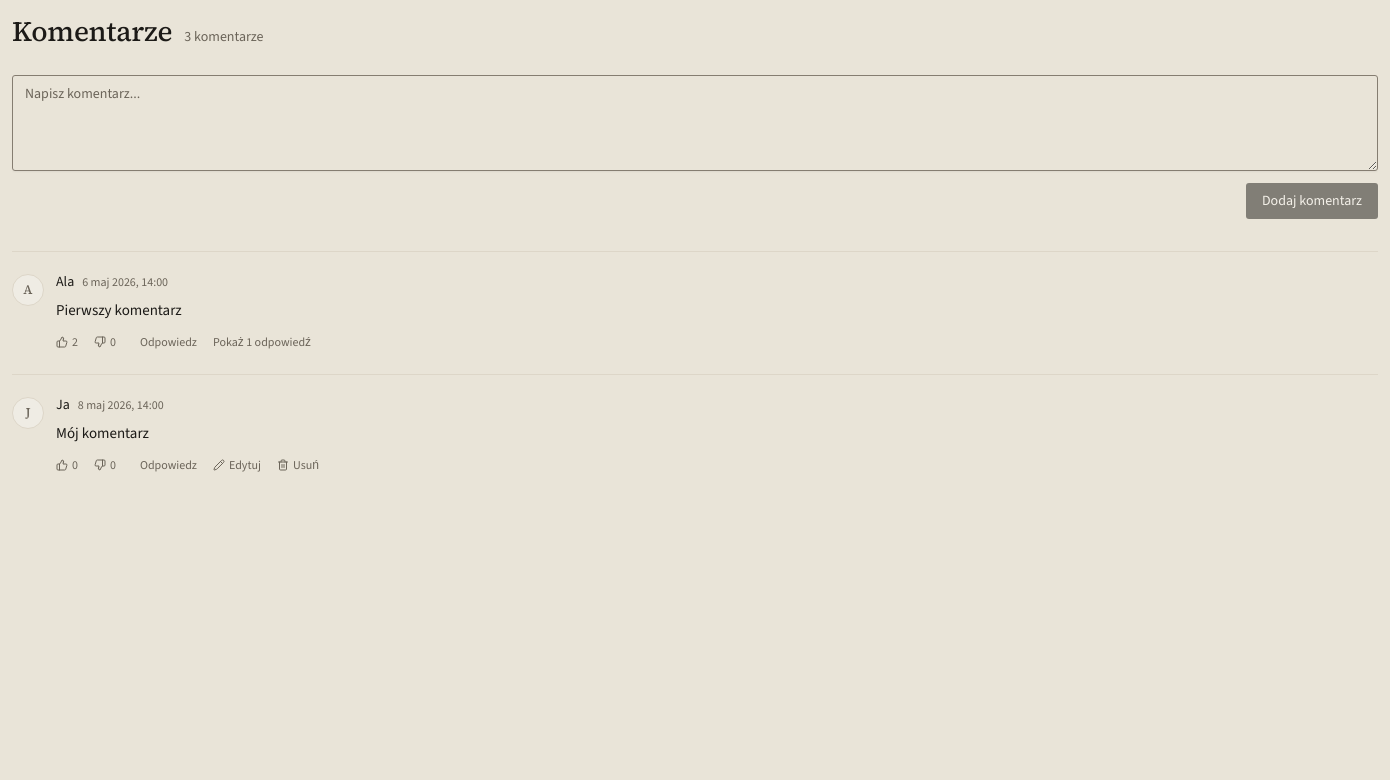
Test: ArticleComments › own comments › edits a comment in place
Click the button "Edytuj". click: (237, 465)
box: [207, 453, 267, 477]
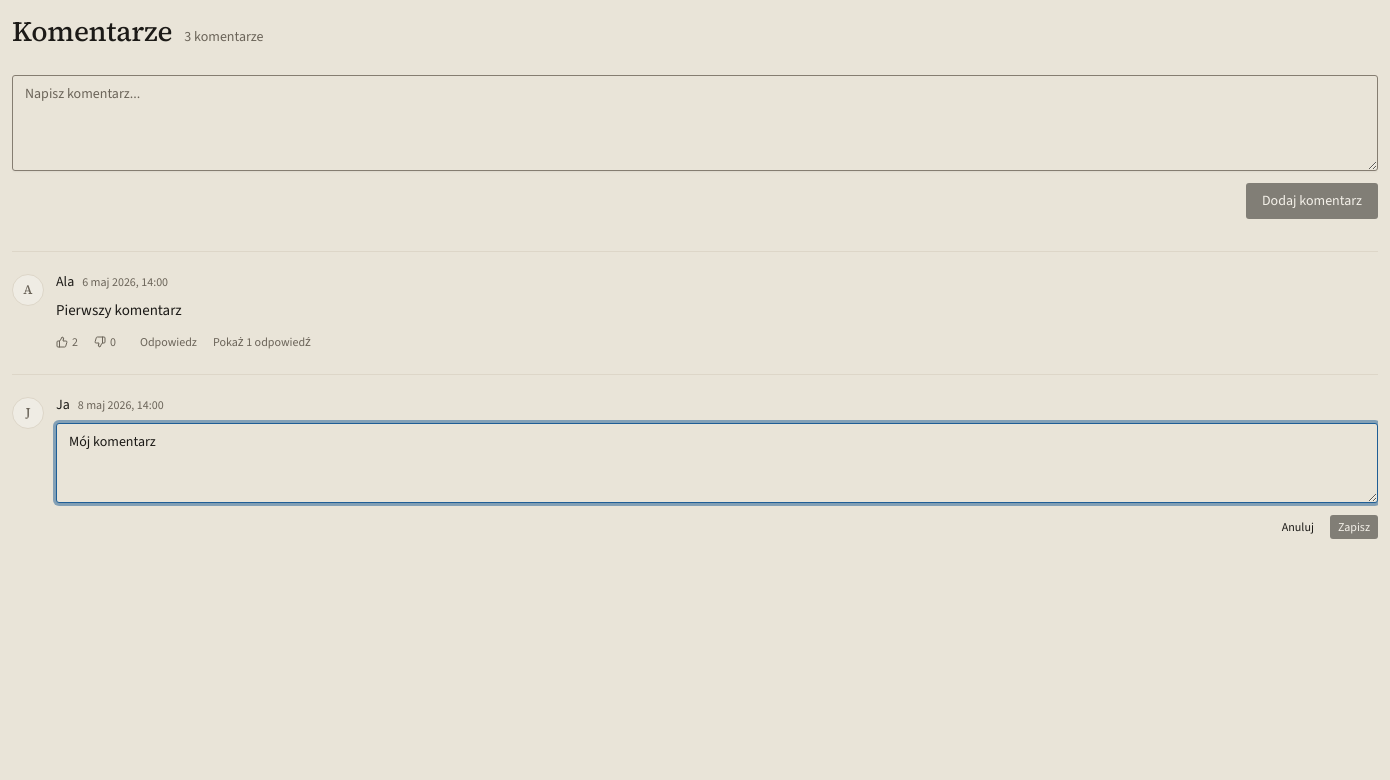
Result: the text box named "Edytuj komentarz" holds "Mój komentarz"
Result: the button "Zapisz" is disabled at [1330, 515, 1378, 539]
Replace the text in the text box named "Edytuj komentarz" with "Poprawiony komentarz". click: (717, 463)
box: [56, 423, 1378, 503]
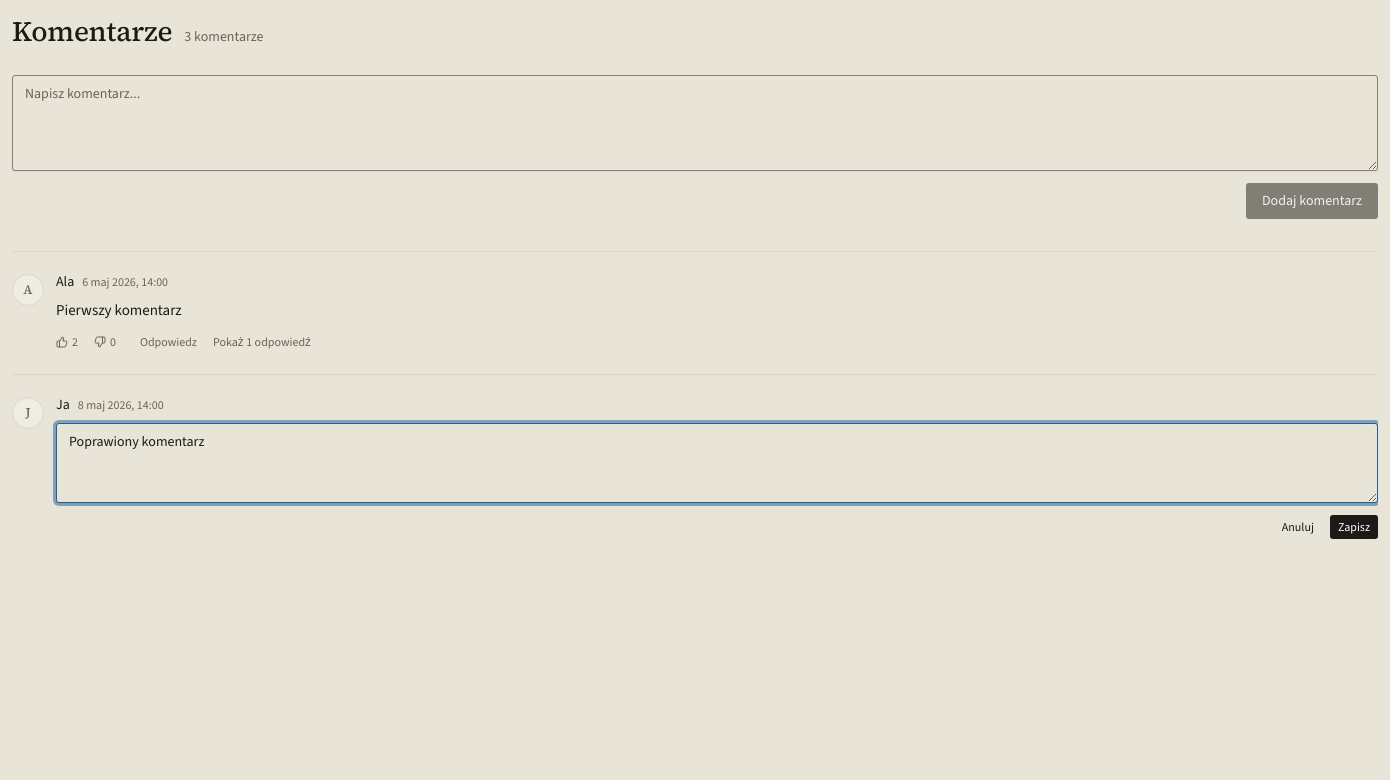
Click the button "Zapisz". click: (1354, 527)
box: [1330, 515, 1378, 539]
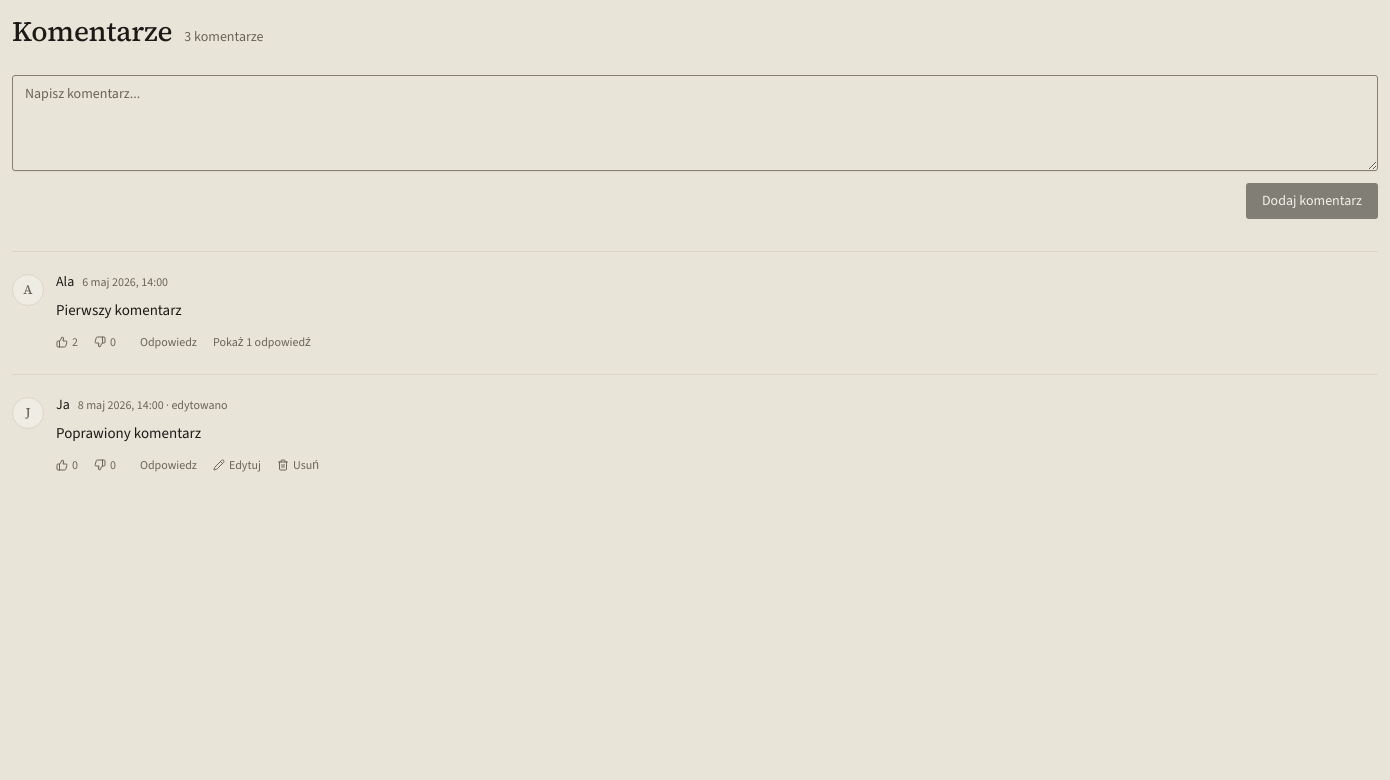
Result: the text "Poprawiony komentarz" is shown at [56, 423, 201, 443]
Result: the text "8 maj 2026, 14:00 · edytowano" is shown at [78, 397, 228, 413]
